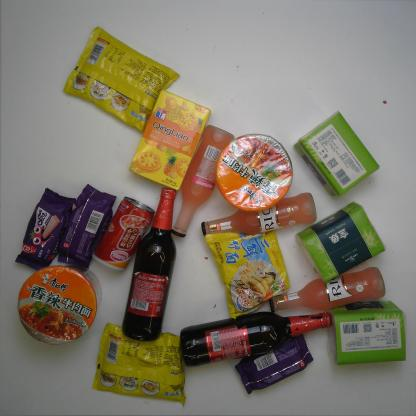Alcohol: (180, 311, 333, 368), (122, 187, 177, 342), (171, 125, 235, 237), (200, 191, 318, 238), (269, 267, 386, 314)
Canned Food: (91, 196, 156, 272)
Dessert: (129, 89, 212, 192), (14, 188, 76, 272), (57, 183, 116, 271), (233, 332, 314, 394)
Instant Noodles: (62, 25, 180, 134), (92, 322, 186, 408), (206, 225, 290, 320), (17, 262, 103, 346), (215, 133, 293, 212)
Tissue: (294, 109, 380, 198), (295, 202, 387, 284), (329, 300, 406, 366)
